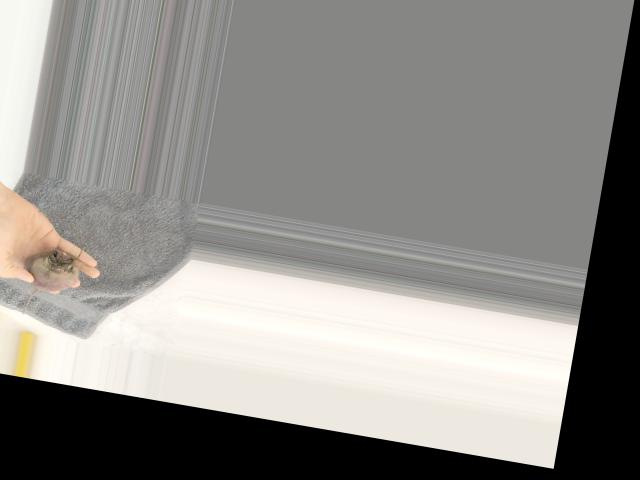beet: (15, 243, 81, 322)
